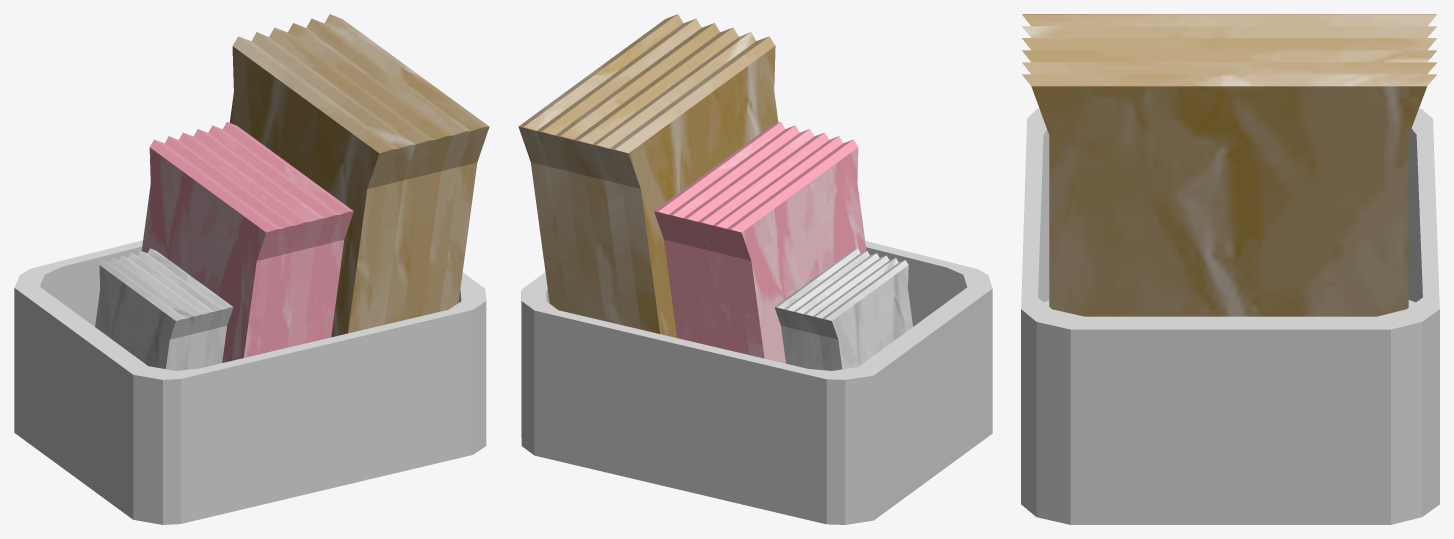
The model's file is Sugar.fbx.
3 renders of one model, left to right at view 1: azimuth 30°, elevation 25°; view 2: azimuth 150°, elevation 25°; view 3: azimuth 270°, elevation 25°, orthographic. The views are drawn at different scales.
Parts seen in each view (by area): view 1: luar.001, gula besar, gula sedang, luar, gula kecil; view 2: luar.001, gula besar, gula sedang, luar, gula kecil; view 3: gula besar, luar.001, luar.
Boxes of the visible parts, left/top/right/bottom form: luar.001: left=14, top=240, right=486, bottom=524; gula besar: left=229, top=14, right=489, bottom=483; gula sedang: left=141, top=122, right=353, bottom=362; luar: left=15, top=242, right=486, bottom=524; gula kecil: left=95, top=248, right=233, bottom=370; luar.001: left=521, top=241, right=992, bottom=524; gula besar: left=518, top=14, right=778, bottom=483; gula sedang: left=654, top=122, right=866, bottom=363; luar: left=521, top=247, right=992, bottom=521; gula kecil: left=774, top=248, right=912, bottom=370; gula besar: left=1022, top=14, right=1437, bottom=316; luar.001: left=1021, top=108, right=1439, bottom=524; luar: left=1021, top=110, right=1439, bottom=515.
Bounding box in the file's own units: 1.73 × 1.53 × 1.33.
